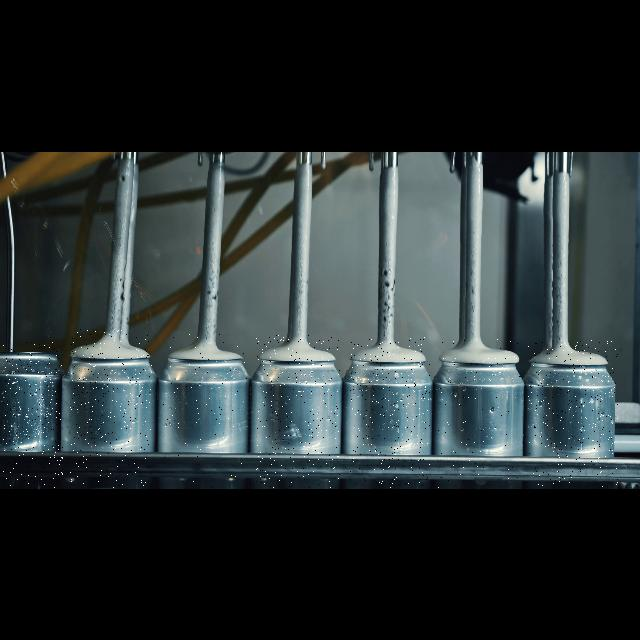empty: (3, 342, 63, 488)
full: (161, 334, 251, 488), (528, 340, 618, 488), (70, 329, 152, 489), (256, 334, 340, 488), (438, 338, 522, 488), (350, 336, 430, 488)
